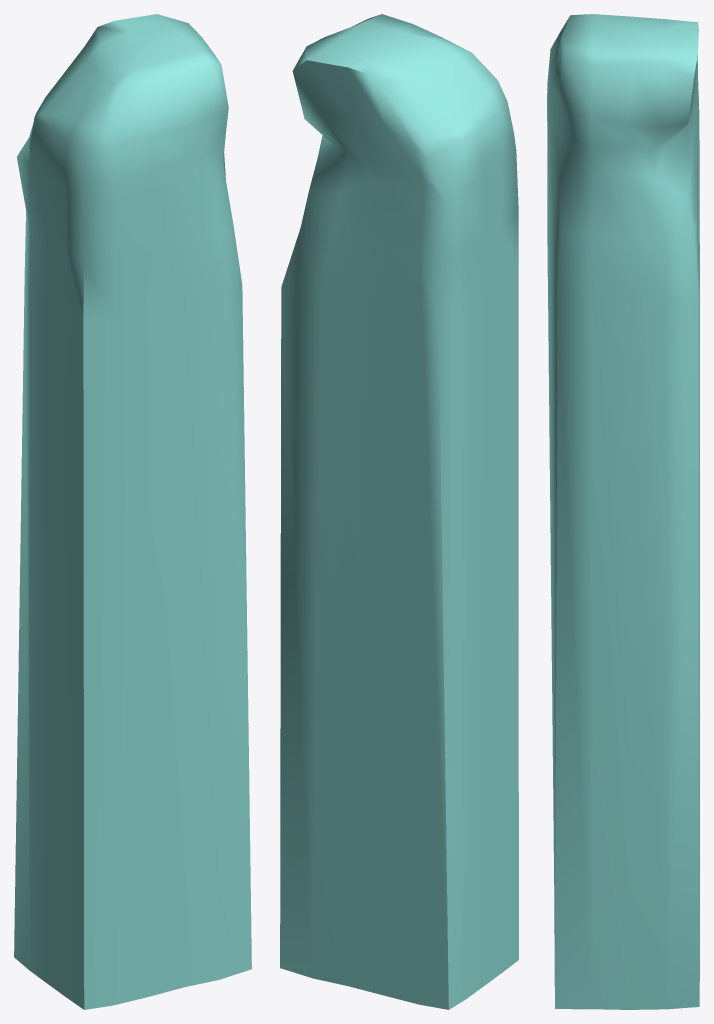
3 views of the same model, side by side, from view 1: azimuth 30°, elevation 25°; view 2: azimuth 150°, elevation 25°; view 3: azimuth 270°, elevation 25° (orthographic). The views are drawn at different scales.
Parts seen in each view (by area): view 1: Cube.009; view 2: Cube.009; view 3: Cube.009.
Boxes of the visible parts, x1,y1,x2,y2 form: Cube.009: (14,14,251,1009); Cube.009: (280,14,518,1009); Cube.009: (547,14,699,1009).
Size of the model in its own units: 749 by 3886 by 567.
